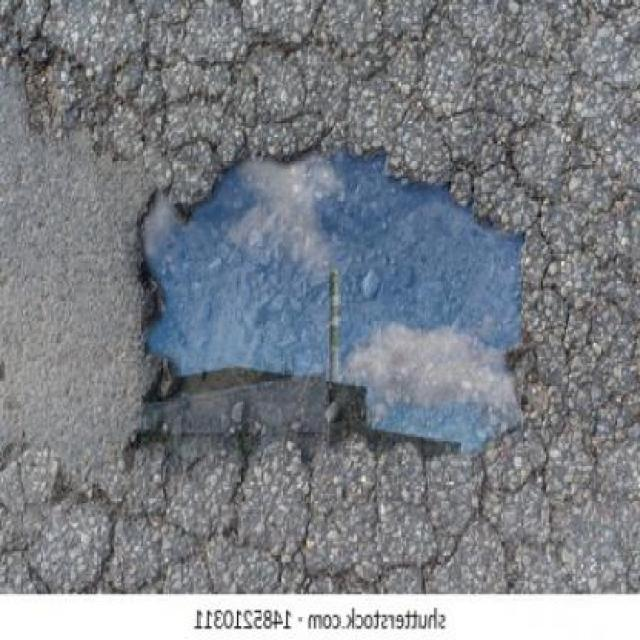Pothole: (138, 154, 521, 464)
